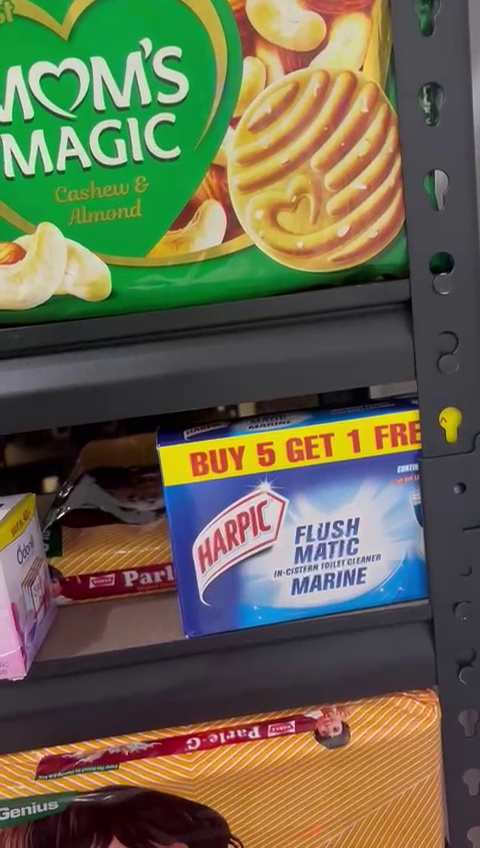Harpic: (160, 420, 429, 635)
